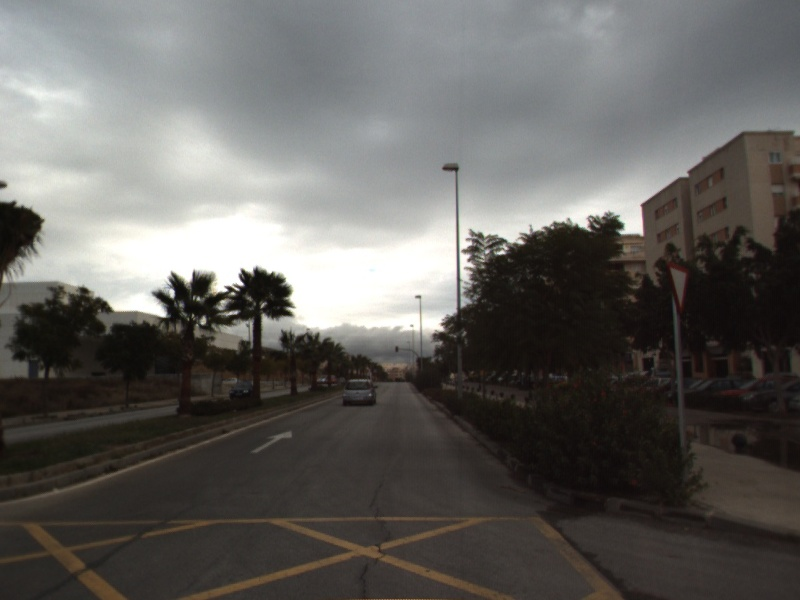STRAIGHT: (248, 429, 294, 455)
